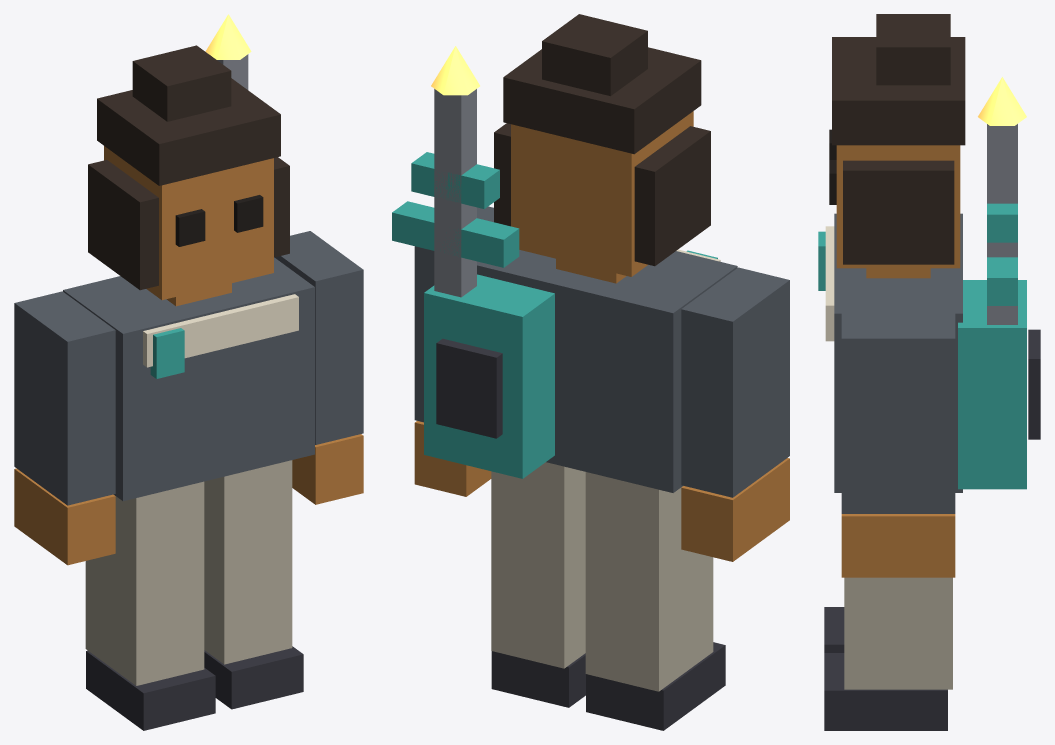
The model's file is people__afterlightJo.glb.
3 renders of one model, left to right at view 1: azimuth 30°, elevation 25°; view 2: azimuth 150°, elevation 25°; view 3: azimuth 270°, elevation 25°, orthographic. The views are drawn at different scales.
Parts seen in each view (by area): view 1: people__afterlightJo, rig_legL, rig_armL, rig_legR, rig_armR; view 2: people__afterlightJo, rig_armL, rig_legL, rig_legR, rig_armR; view 3: people__afterlightJo, rig_armR, rig_legR, rig_legL.
Part boxes in pixels (<box>): people__afterlightJo: <box>63,14,314,501</box>; rig_legL: <box>85,481,215,730</box>; rig_armL: <box>14,291,115,565</box>; rig_legR: <box>204,460,303,709</box>; rig_armR: <box>275,231,363,504</box>; people__afterlightJo: <box>392,14,737,492</box>; rig_armL: <box>681,267,789,561</box>; rig_legL: <box>585,472,725,730</box>; rig_legR: <box>491,462,585,707</box>; rig_armR: <box>414,206,493,496</box>; people__afterlightJo: <box>818,14,1040,492</box>; rig_armR: <box>841,313,955,577</box>; rig_legR: <box>824,577,952,730</box>; rig_legL: <box>824,607,844,652</box>.
Bounding box in the file's own units: 1.48 × 2.94 × 0.9.
